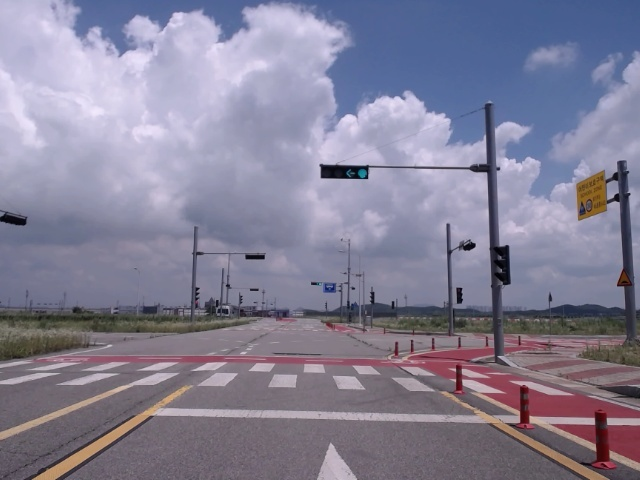all_green_4: (320, 164, 368, 179)
